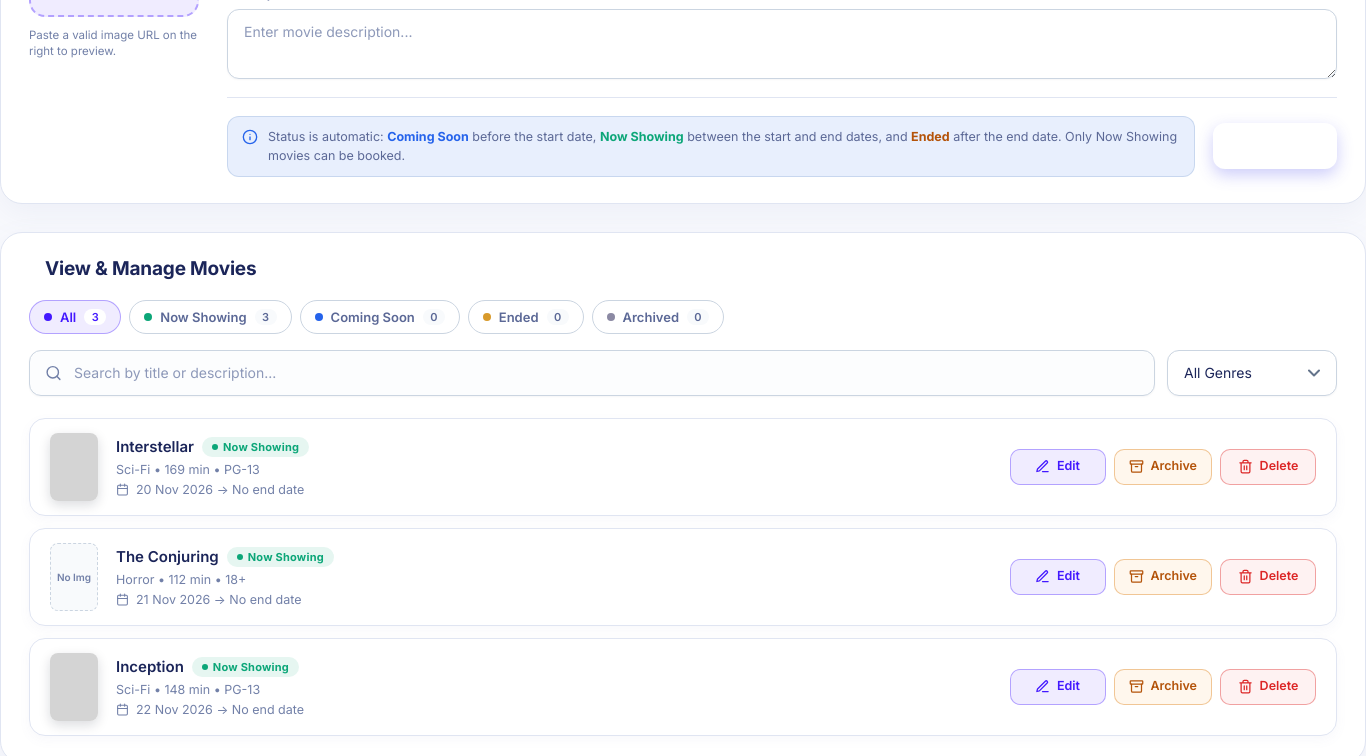
Admin Movies Page › should display a message when search and filters return no results
(page scrolled)
Expected: the text "Interstellar" is shown, [116, 437, 194, 456]
Type "nonexistent movie" into the field with placeholder "Search by title or description...".
click(592, 373); type("nonexistent movie")  # box [29, 350, 1155, 396]
(page scrolled)
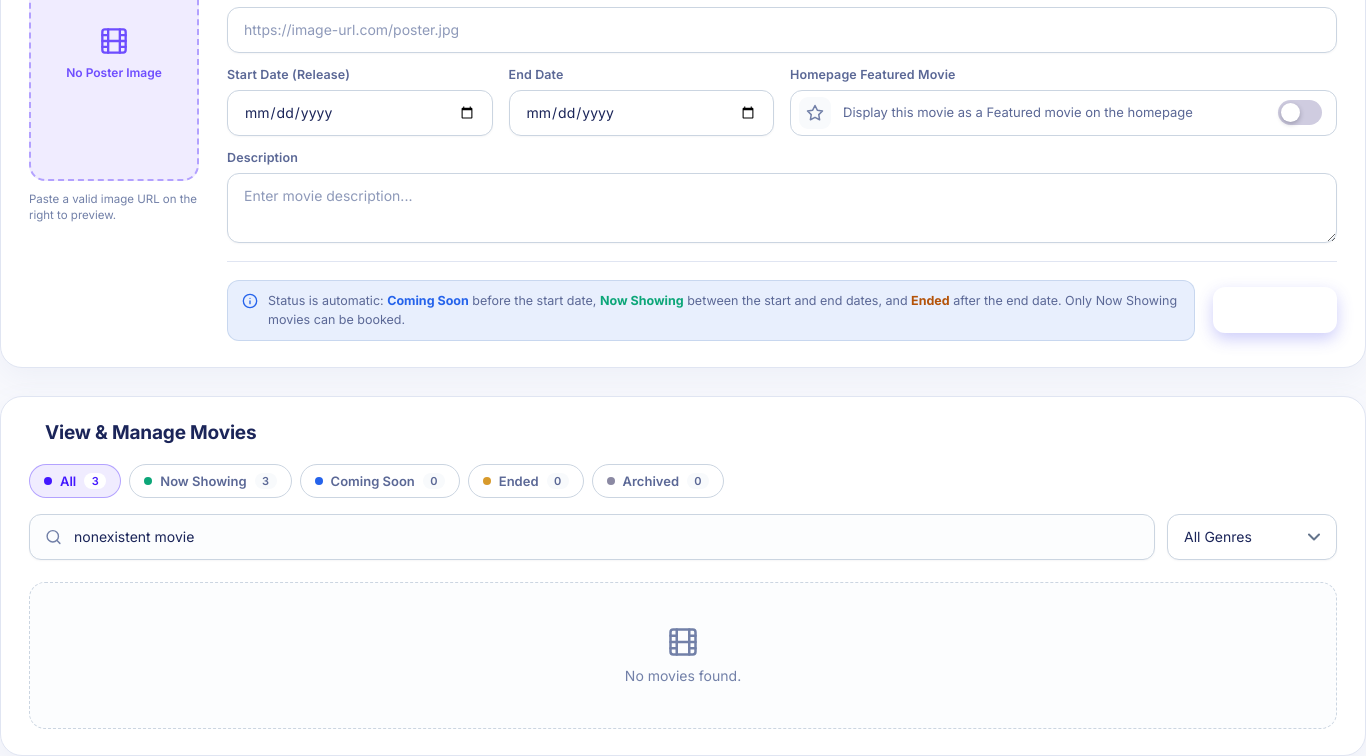
Expected: the text "No movies found." is shown, [625, 667, 741, 684]
